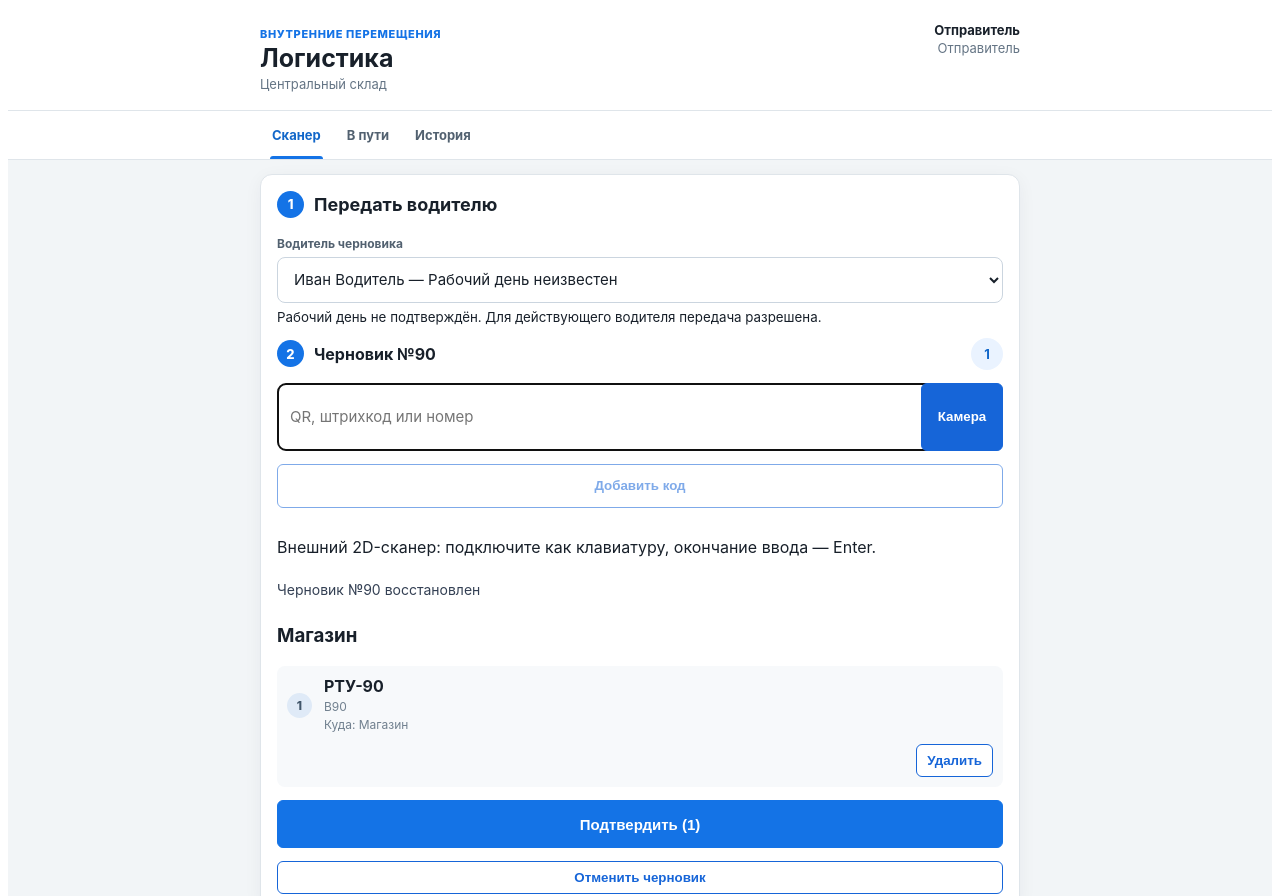
Test: LogisticsWorkspace › показывает повтор возле сканера и сохраняет документы при ошибке
Type "short-QR" into the field with placeholder "QR, штрихкод или номер" at (608,417), box x1=277 y1=383 x2=939 y2=451
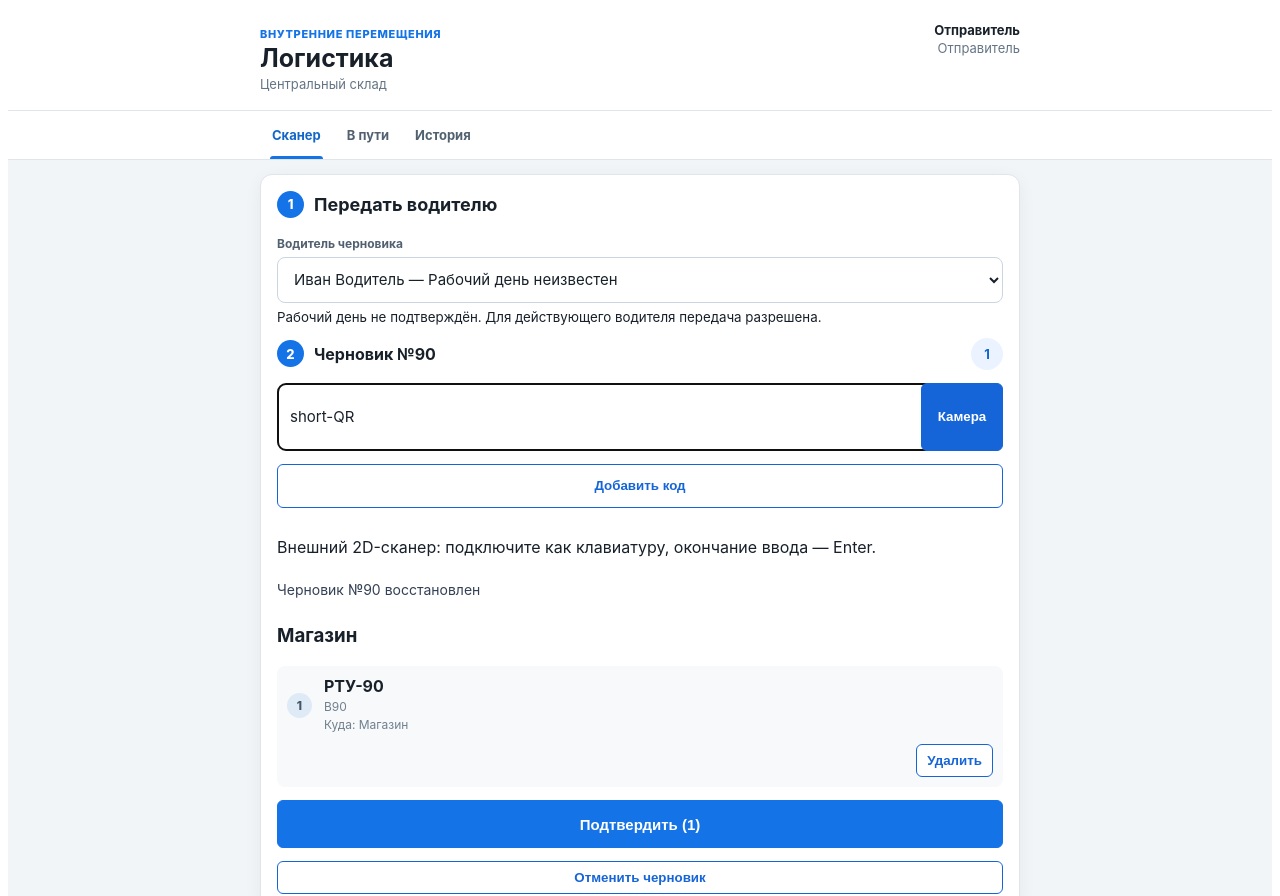
Click the button "Добавить код" at (640,486), box x1=277 y1=464 x2=1003 y2=508
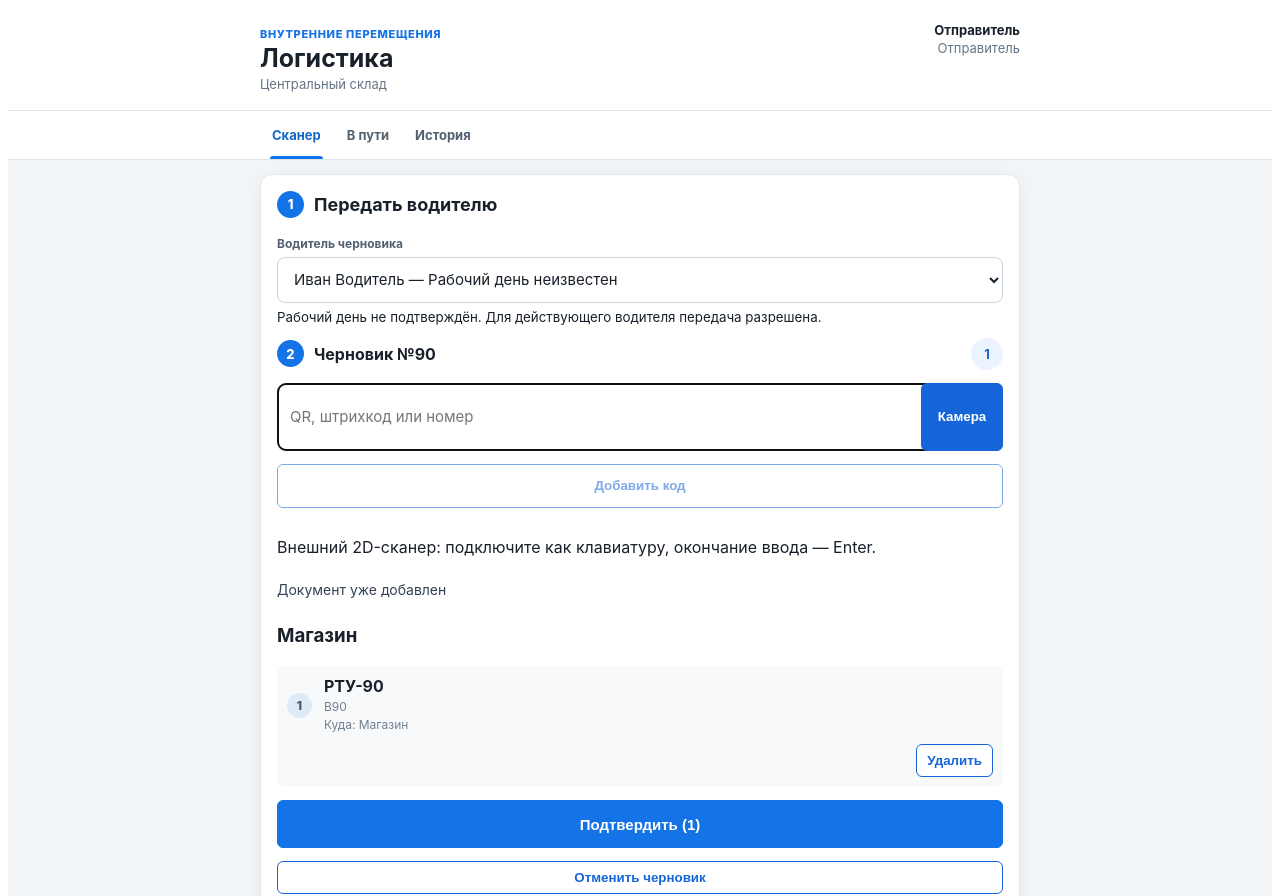
Expected: the text "РТУ-90" is shown once, x1=324 y1=676 x2=384 y2=696
Result: the text "Документ уже добавлен" is shown at x1=277 y1=581 x2=446 y2=598
Type "unknown-QR" into the field with placeholder "QR, штрихкод или номер" at (608,417), box x1=277 y1=383 x2=939 y2=451
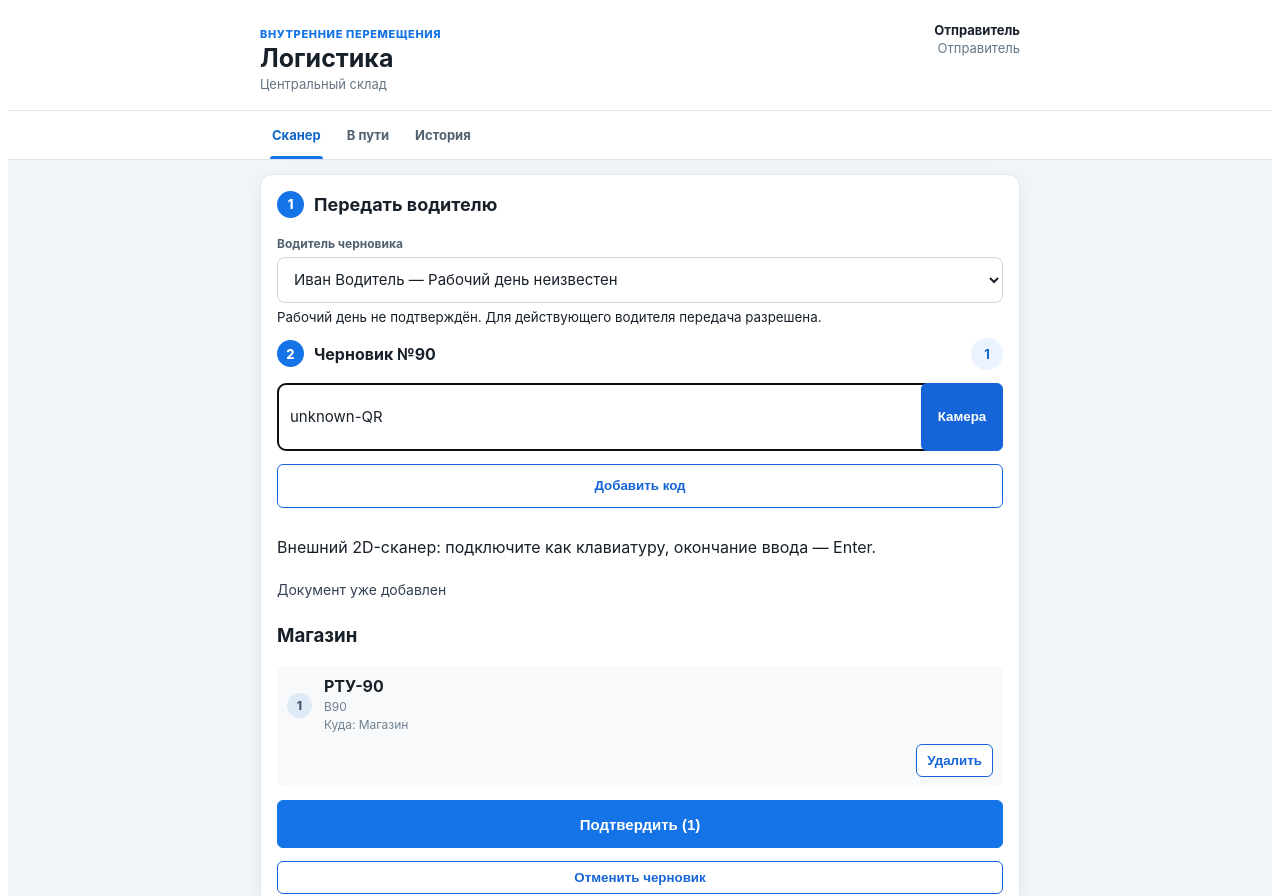
Click the button "Добавить код" at (640,486), box x1=277 y1=464 x2=1003 y2=508
(page scrolled)
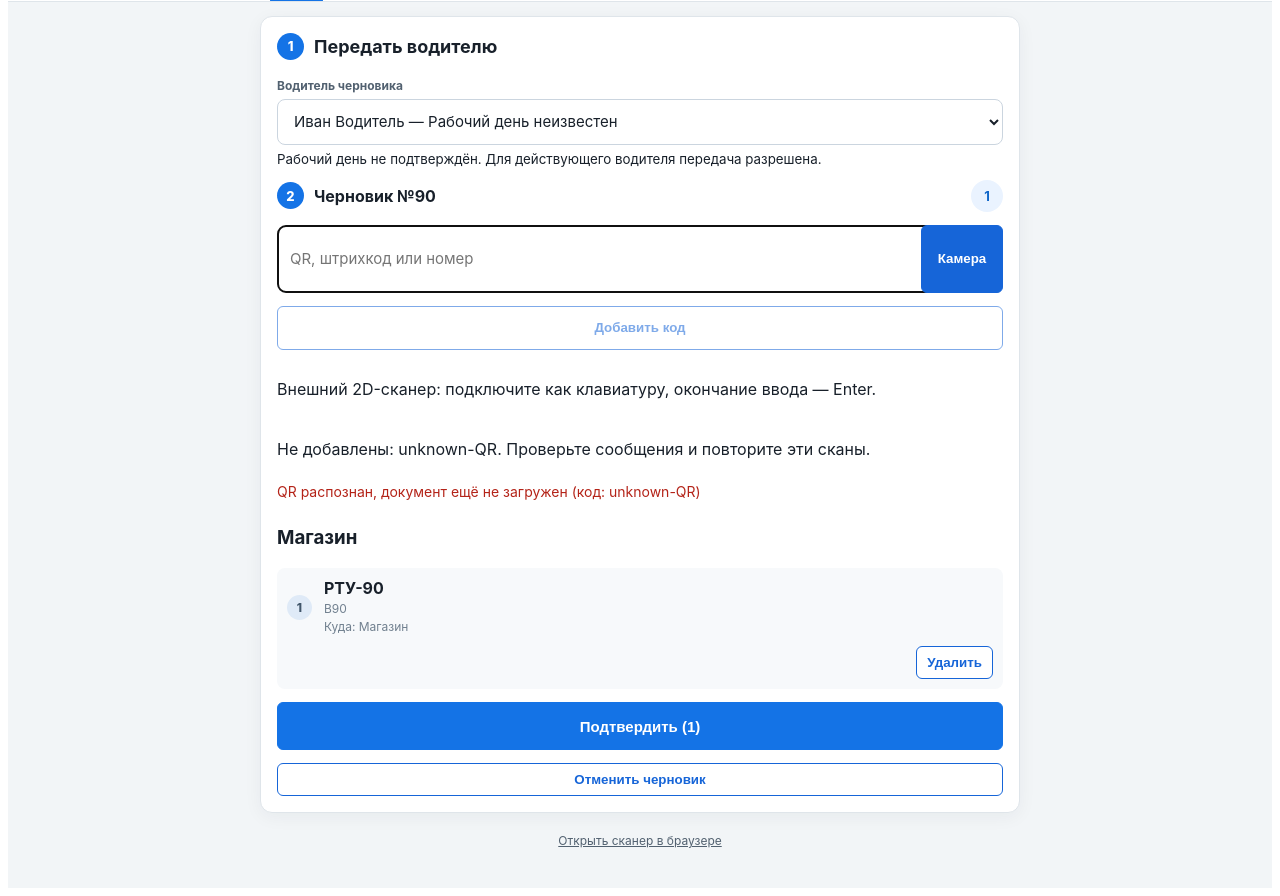
Expected: the text "РТУ-90" is shown, x1=324 y1=578 x2=384 y2=598
Result: the text "QR распознан, документ ещё не загружен (код: unknown-QR)" is shown at x1=277 y1=483 x2=701 y2=500
Result: the field with placeholder "QR, штрихкод или номер" is empty at x1=277 y1=225 x2=939 y2=293
